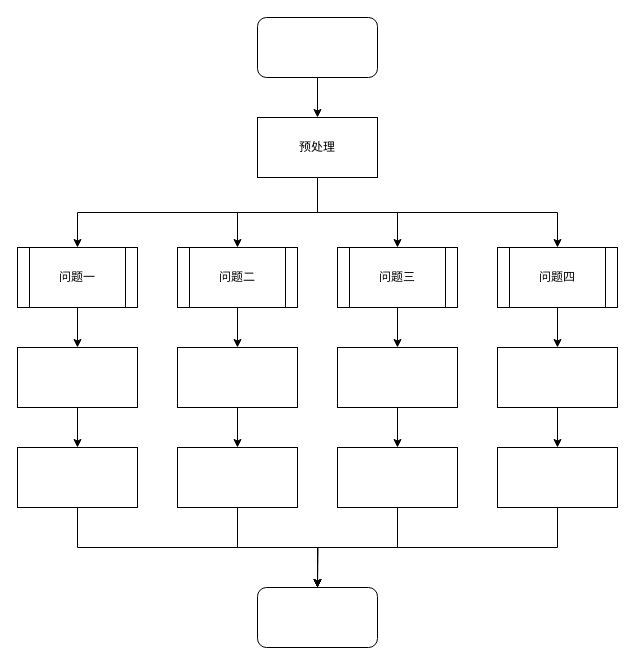
Image size: 635x665. Some labels were removed from this diagram. Here are the shapes that lost their labels. From the top down, the centre of each, then its label:
the point at 317,47: 原始数据
the point at 317,617: 结论
